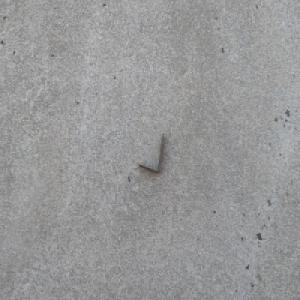MetalPart: (138, 131, 165, 173)
